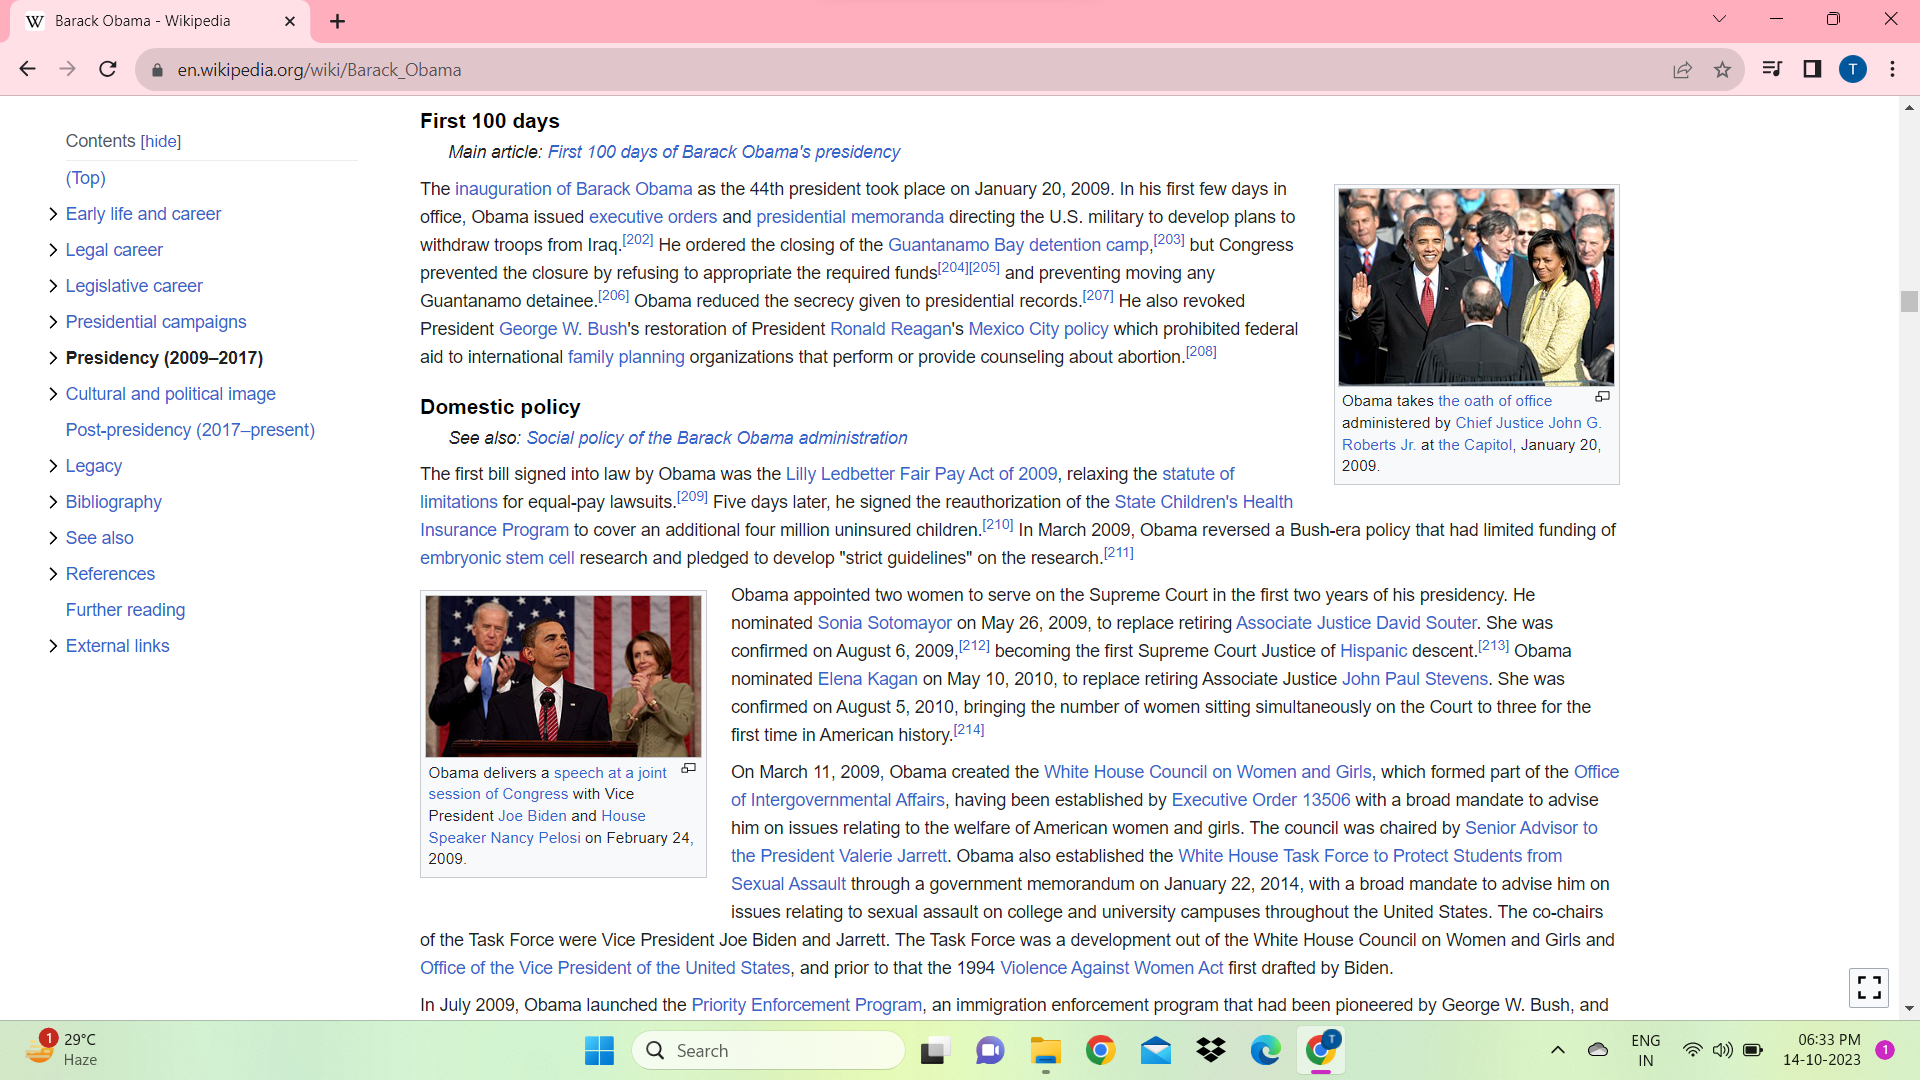Image: (1327, 179, 1627, 390), (410, 591, 696, 757)
Paragraph: (411, 767, 1642, 1014), (411, 173, 1309, 373), (404, 459, 1680, 576), (723, 587, 1611, 753), (454, 142, 910, 166), (447, 431, 915, 454), (65, 414, 316, 454), (50, 128, 204, 190), (414, 384, 580, 425), (57, 335, 252, 369), (62, 309, 258, 339), (58, 272, 231, 305), (61, 203, 248, 233), (58, 380, 282, 401), (406, 102, 567, 129), (51, 593, 187, 624), (58, 240, 194, 265), (61, 485, 173, 513), (61, 556, 166, 584), (67, 632, 170, 658), (67, 455, 132, 479), (62, 529, 132, 543)
